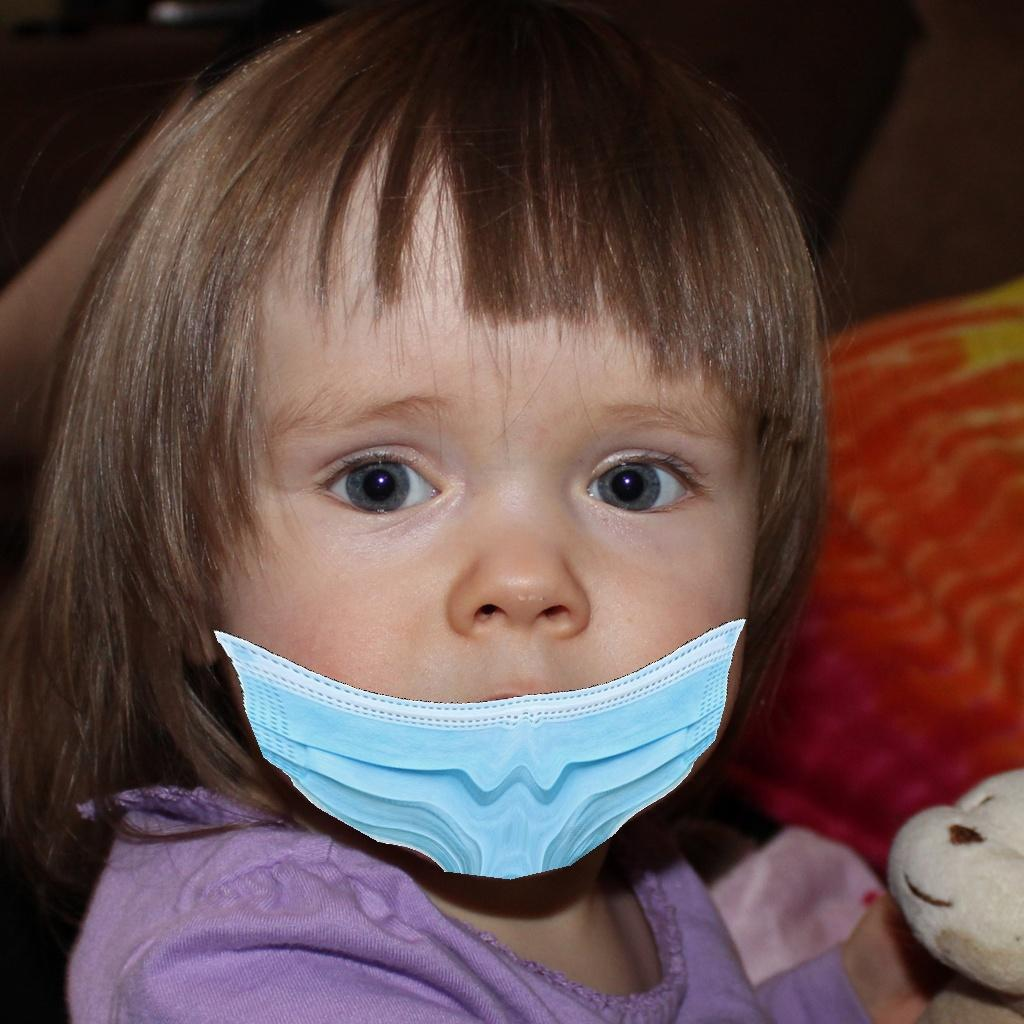Máscara Incorreta: (139, 229, 775, 894)
